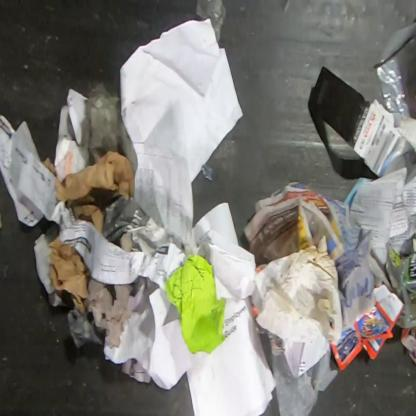cardboard: (308, 64, 414, 178), (330, 284, 406, 372)
soft_plastic: (267, 331, 339, 416), (80, 82, 138, 172), (372, 21, 416, 128), (385, 239, 416, 329), (195, 0, 228, 47)
